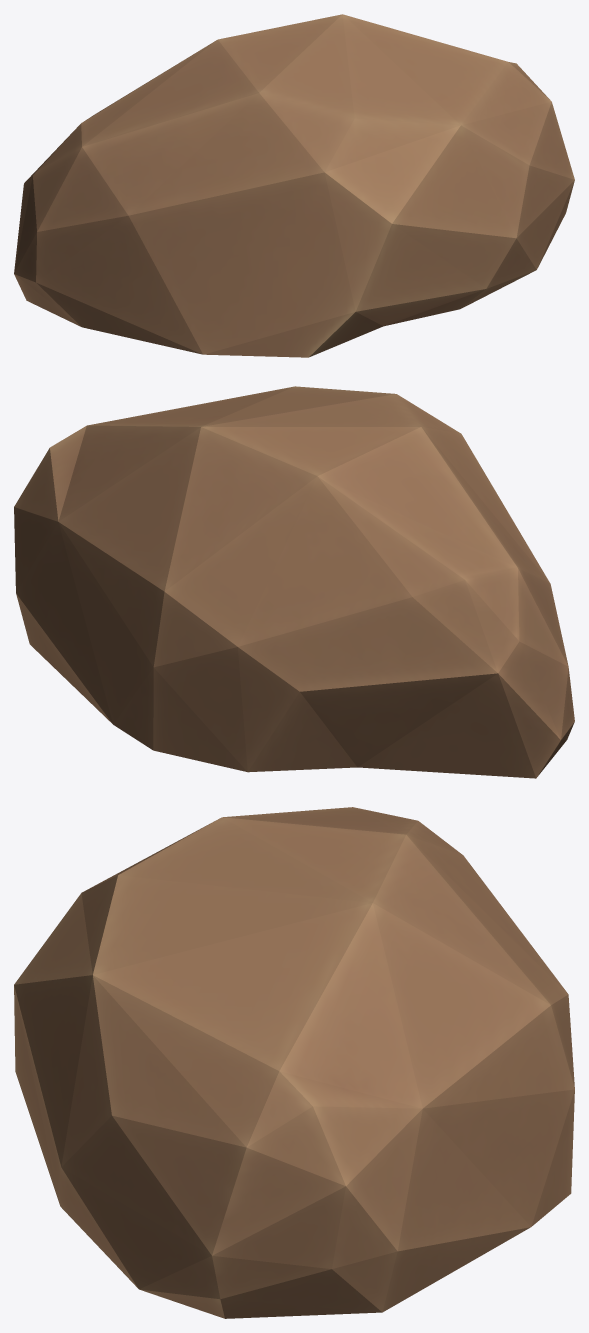
Rendered from Rock_41.fbx.
The picture shows the model from 3 angles, top to bottom: view 1: azimuth 30°, elevation 25°; view 2: azimuth 150°, elevation 25°; view 3: azimuth 270°, elevation 25°; orthographic projection. The views are drawn at different scales.
Parts seen in each view (by area): view 1: Rock_41; view 2: Rock_41; view 3: Rock_41.
Boxes of the visible parts, x1=… form: Rock_41: x1=14, y1=14, x2=574, y2=357; Rock_41: x1=14, y1=386, x2=574, y2=778; Rock_41: x1=14, y1=807, x2=574, y2=1318.
Bounding box in the file's own units: 48.75 × 34.12 × 20.92.
